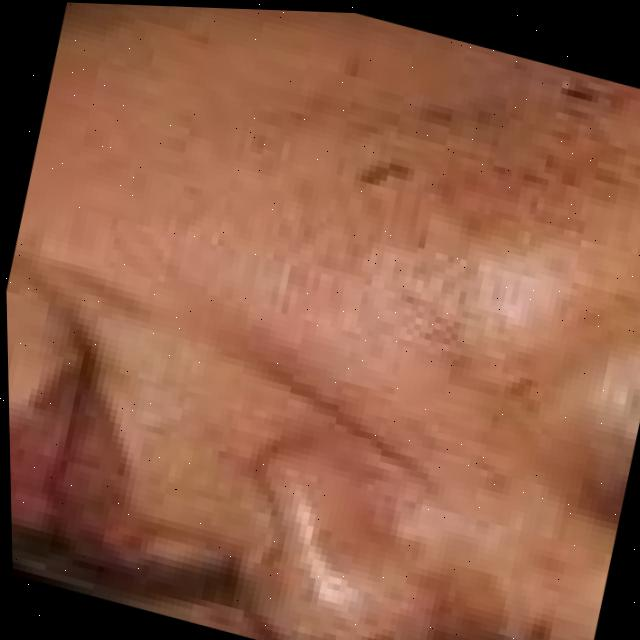Melasma: (358, 48, 633, 405), (401, 537, 515, 640)
